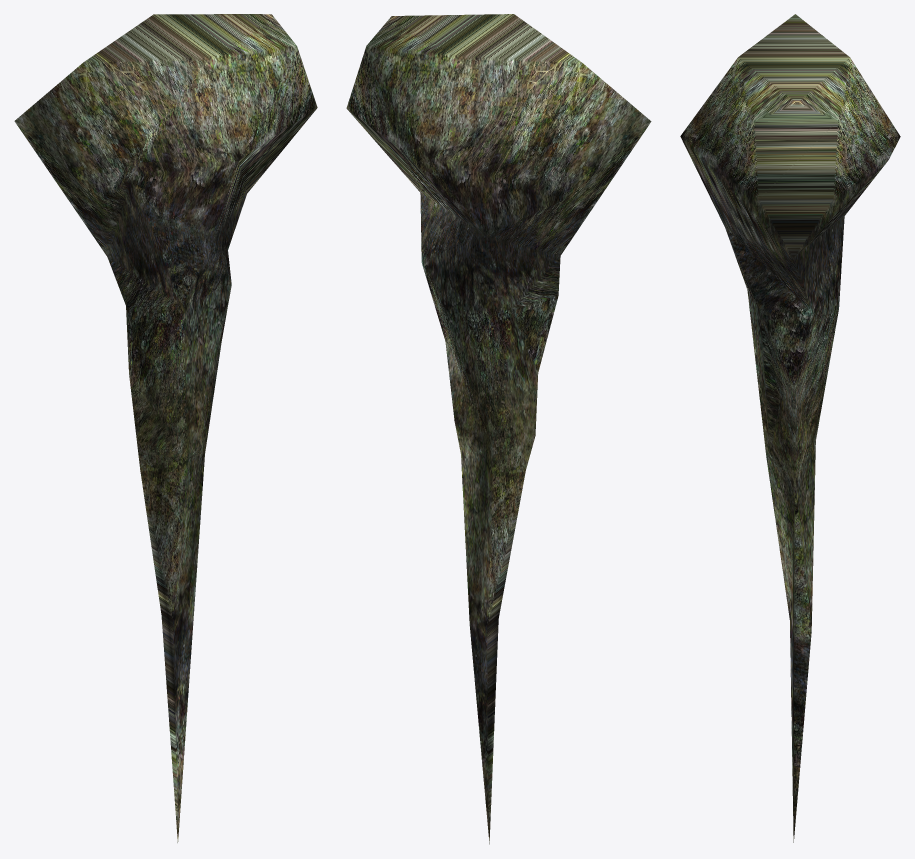
The model's file is thm_all_cave_stalagtite_damprock_a1_l0.fbx.
The picture shows the model from 3 angles, left to right: view 1: azimuth 30°, elevation 25°; view 2: azimuth 150°, elevation 25°; view 3: azimuth 270°, elevation 25°; orthographic projection. The views are drawn at different scales.
Parts seen in each view (by area): view 1: mesh_node; view 2: mesh_node; view 3: mesh_node.
Part boxes in pixels (bbox=[...]): mesh_node: bbox=[14, 14, 317, 842]; mesh_node: bbox=[346, 14, 651, 844]; mesh_node: bbox=[680, 14, 900, 842].
Bounding box in the file's own units: 0.6837 × 1.85 × 0.4681.
